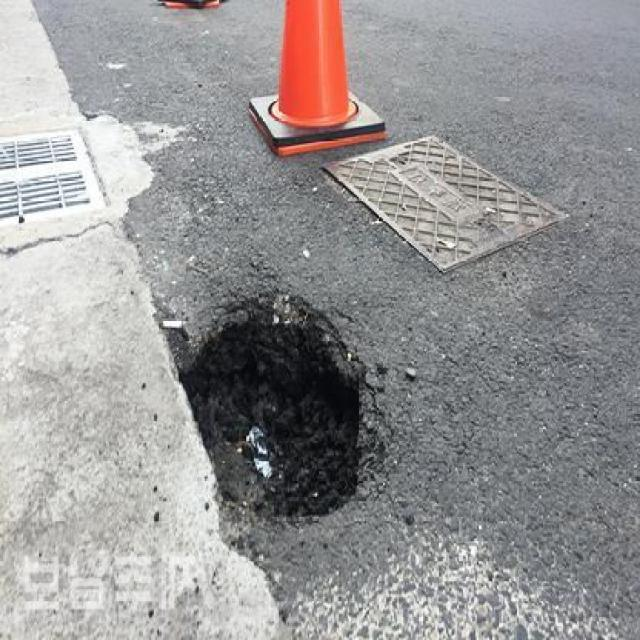pothole: (172, 282, 374, 547)
